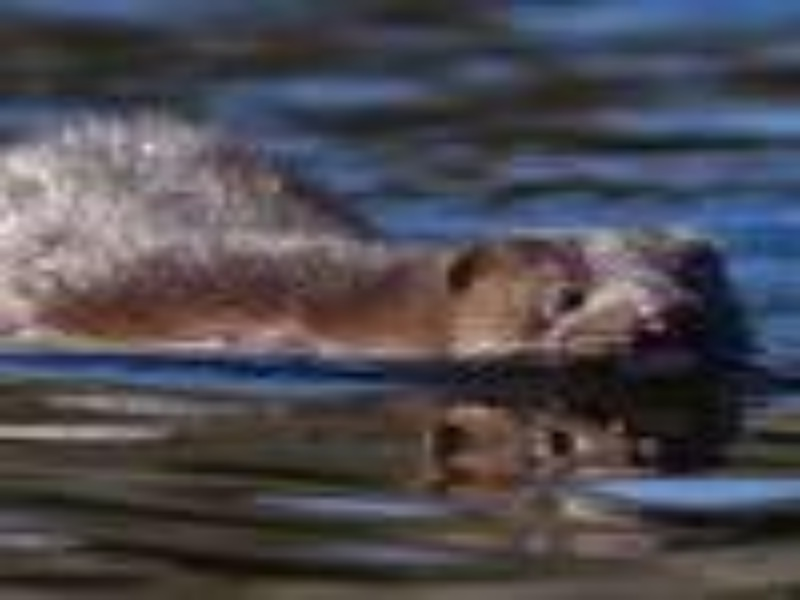minkish: (1, 105, 750, 370)
